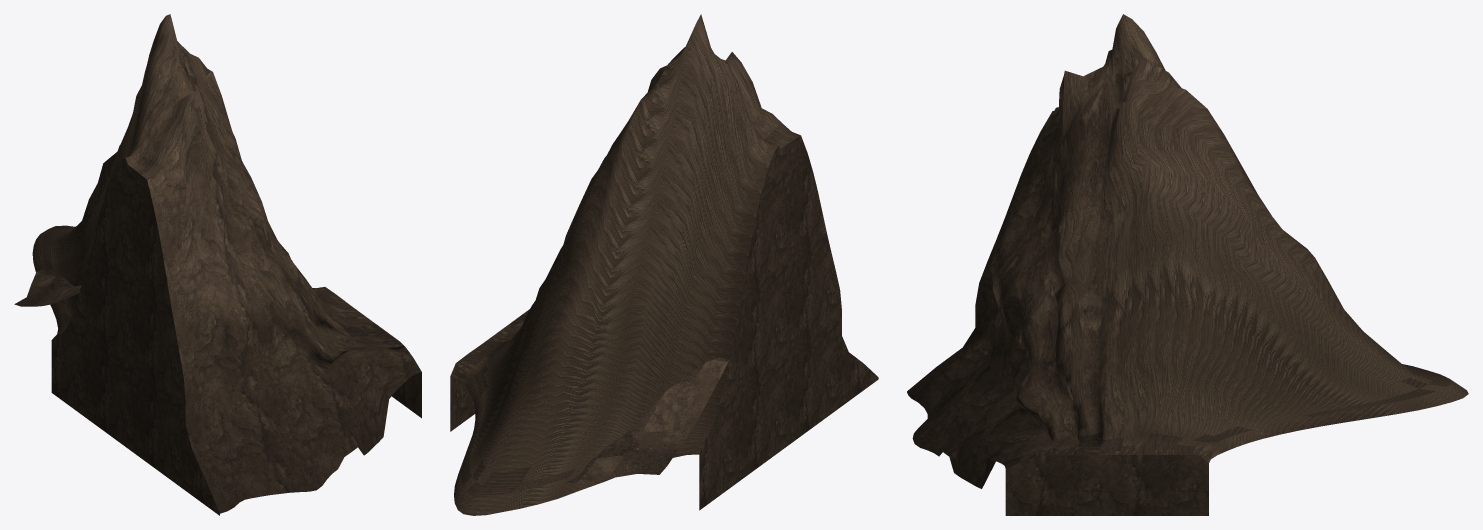
The model's file is seacliff_endcap_right_h5_b_v5_dead.glb.
3 views of the same model, side by side, from view 1: azimuth 30°, elevation 25°; view 2: azimuth 150°, elevation 25°; view 3: azimuth 270°, elevation 25° (orthographic). The views are drawn at different scales.
Parts seen in each view (by area): view 1: seacliff_endcap_right_h5_b; view 2: seacliff_endcap_right_h5_b; view 3: seacliff_endcap_right_h5_b.
Part boxes in pixels (box(x1,y1,x2,y2)): seacliff_endcap_right_h5_b: box(14, 14, 421, 515); seacliff_endcap_right_h5_b: box(450, 14, 878, 515); seacliff_endcap_right_h5_b: box(907, 14, 1468, 515).
Size of the model in its own units: 6 by 9.36 by 11.63.
2 materials, 2 textured.
